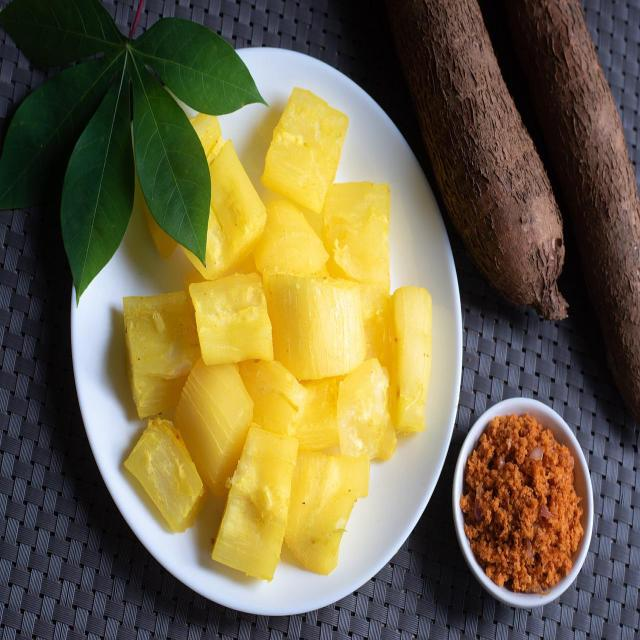yuca: (113, 404, 219, 543), (257, 84, 361, 215), (189, 269, 279, 372)
